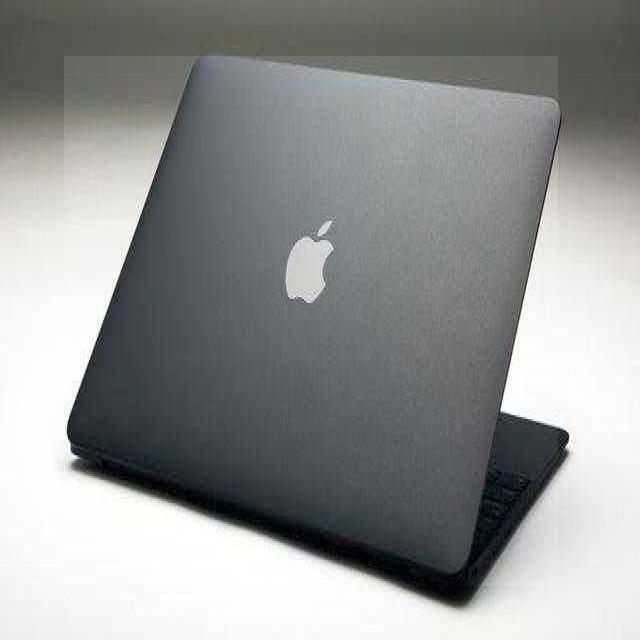-keyboard-: (64, 56, 558, 586)
